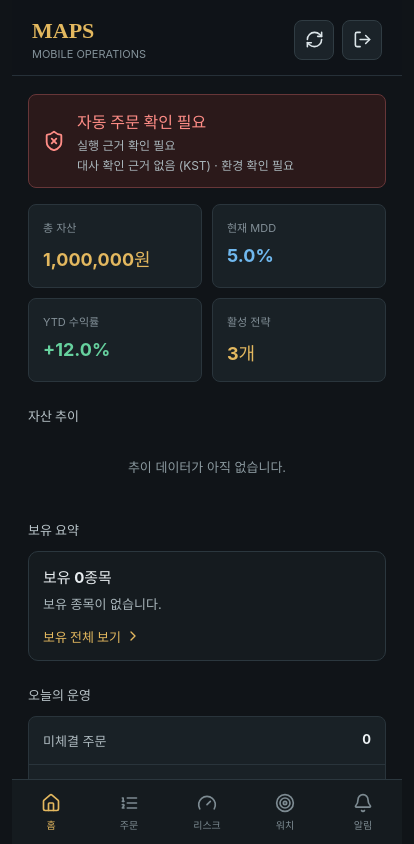
보유 현황 › 보유가 없으면 빈 상태 문구를 보여준다
Expected: the text "총 자산" is shown, [43, 221, 76, 235]
Click the button "리스크" at [207, 812], box [168, 780, 246, 843]
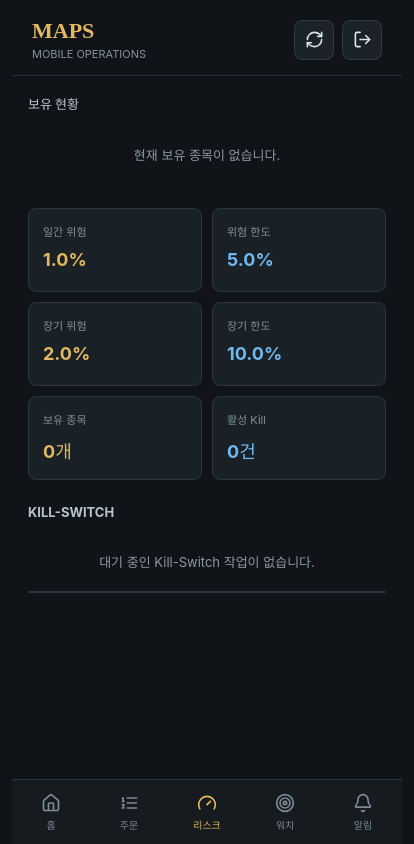
Result: the text "현재 보유 종목이 없습니다." is shown at [134, 147, 280, 163]
